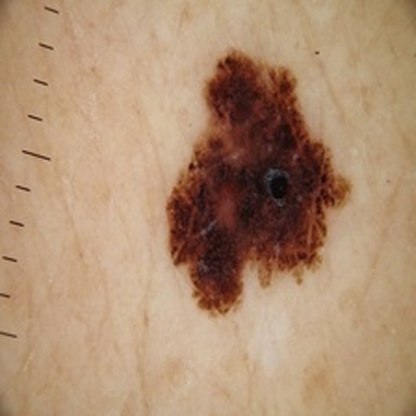malignant: (175, 68, 339, 290)
